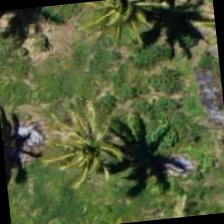Kelapa_Sawit: (37, 98, 136, 196), (67, 0, 163, 52)
